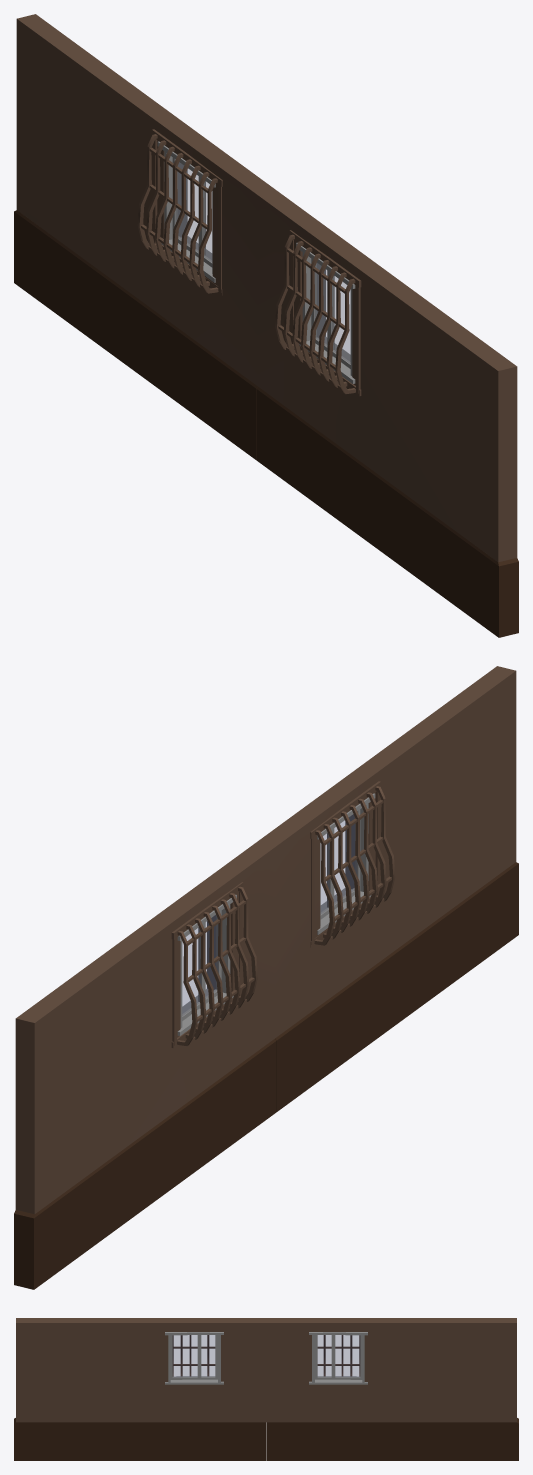
The picture shows the model from 3 angles, top to bottom: view 1: azimuth 30°, elevation 25°; view 2: azimuth 150°, elevation 25°; view 3: azimuth 270°, elevation 25°; orthographic projection. The views are drawn at different scales.
Parts seen in each view (by area): view 1: wall_outer_left_side_1st_floor_004; view 2: wall_outer_left_side_1st_floor_004; view 3: wall_outer_left_side_1st_floor_004.
Part boxes in pixels (x1=…): wall_outer_left_side_1st_floor_004: x1=14, y1=14, x2=518, y2=637; wall_outer_left_side_1st_floor_004: x1=14, y1=666, x2=518, y2=1289; wall_outer_left_side_1st_floor_004: x1=14, y1=1318, x2=518, y2=1460.
Bounding box in the file's own units: 64.52 × 389 × 1288.
